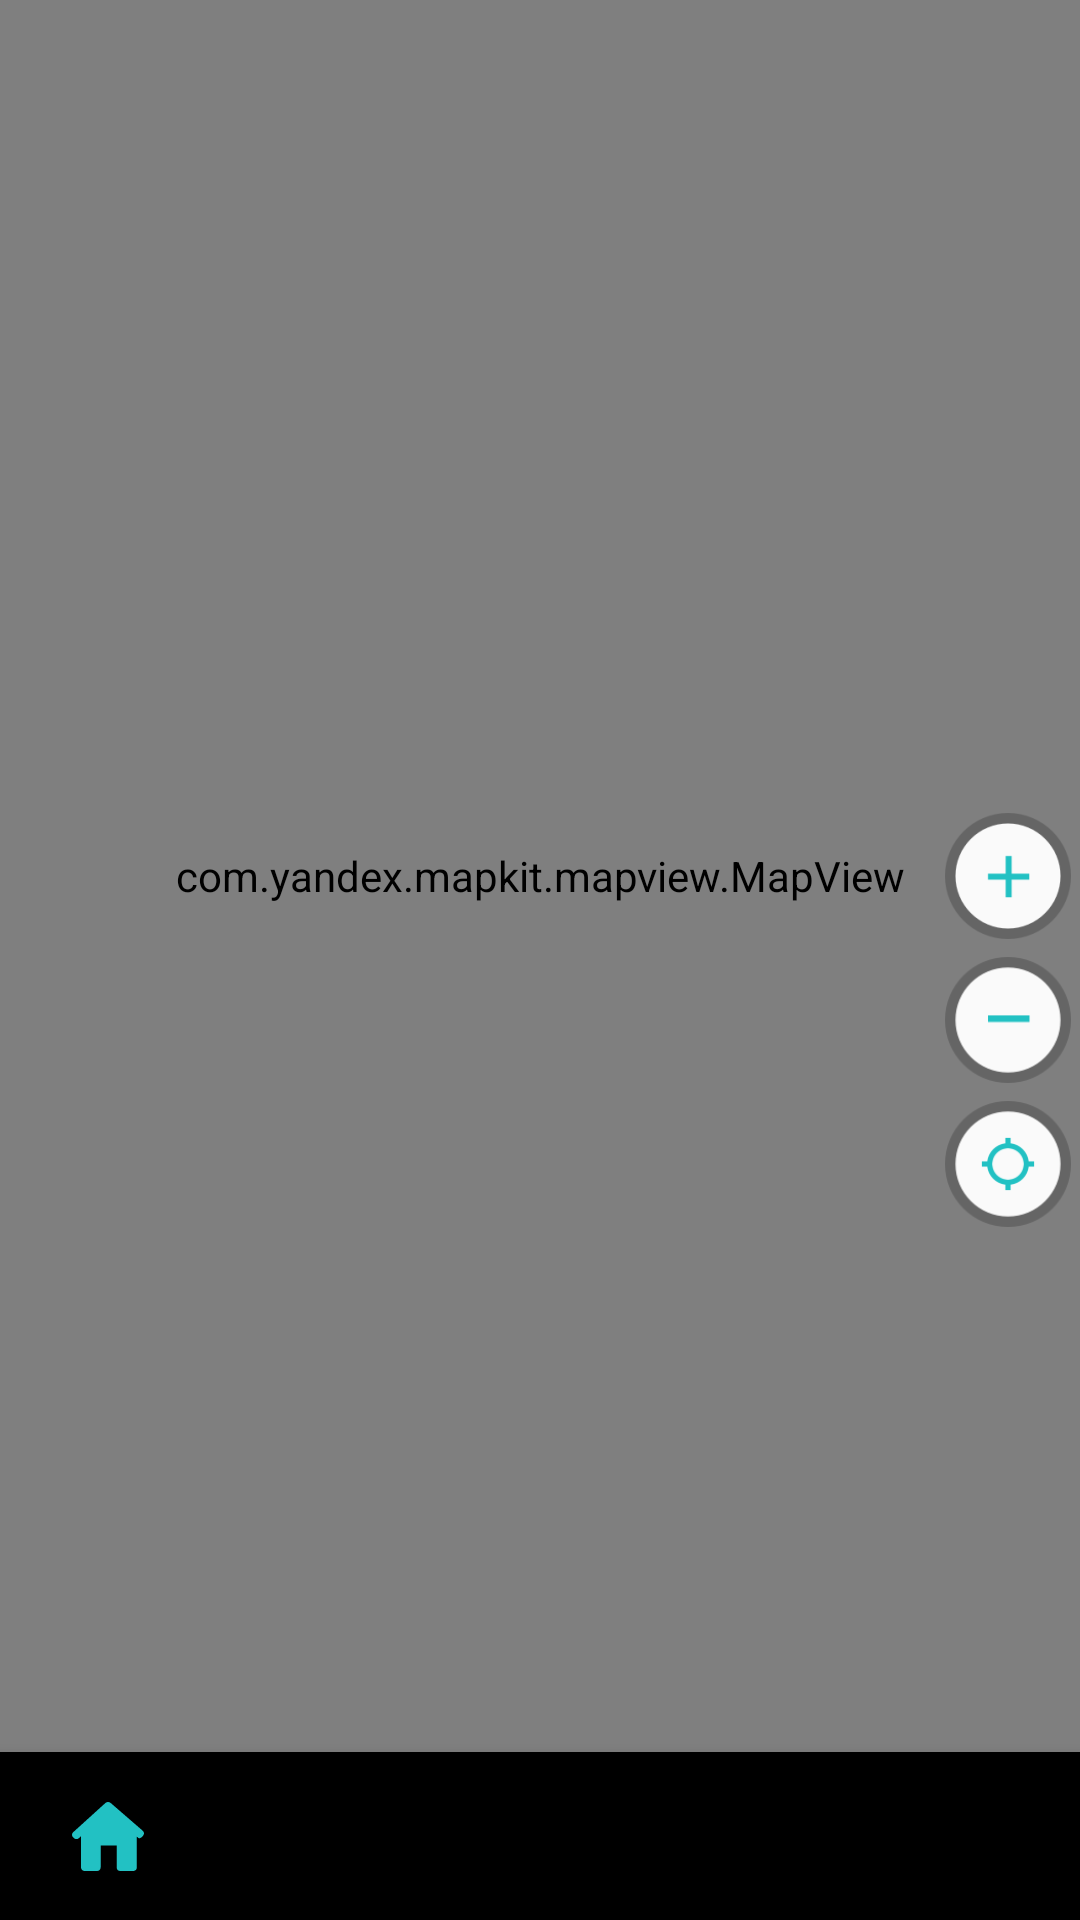

Where icons sit on this 1080*1920 app screen, as [left=x1, top=y1, right=x2, bottom=y2]:
minus: [left=945, top=957, right=1071, bottom=1083]
plus: [left=945, top=813, right=1071, bottom=939]
user location: [left=945, top=1101, right=1071, bottom=1227]
